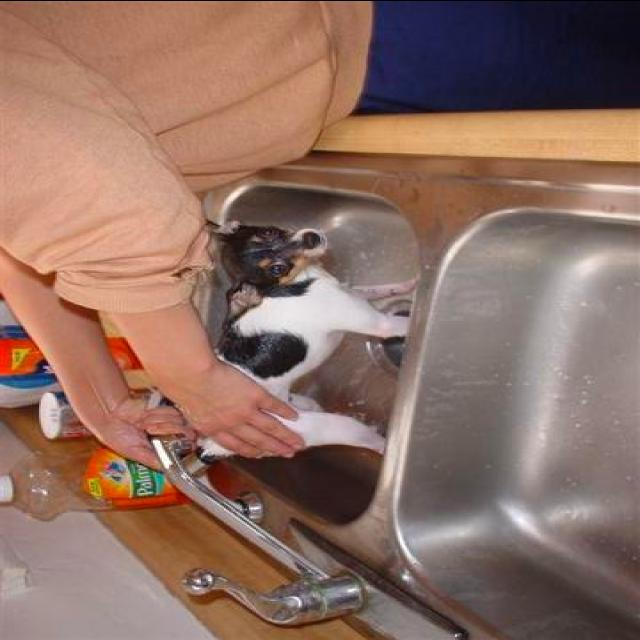toy_terrier: (194, 218, 418, 462)
